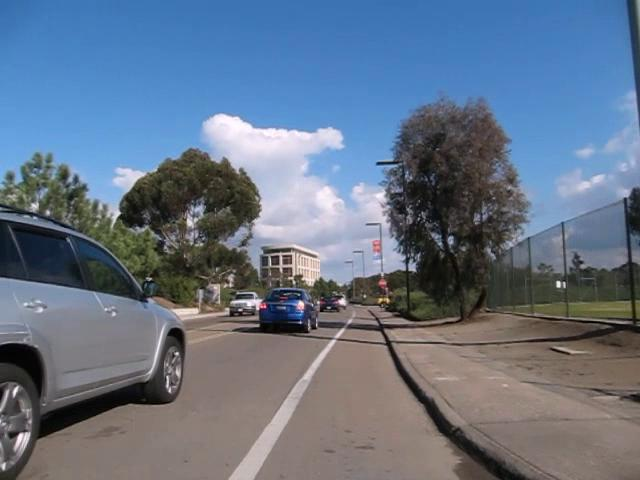stop: (377, 277, 387, 289)
